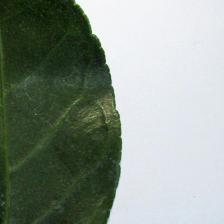healthy: (0, 0, 123, 224)
